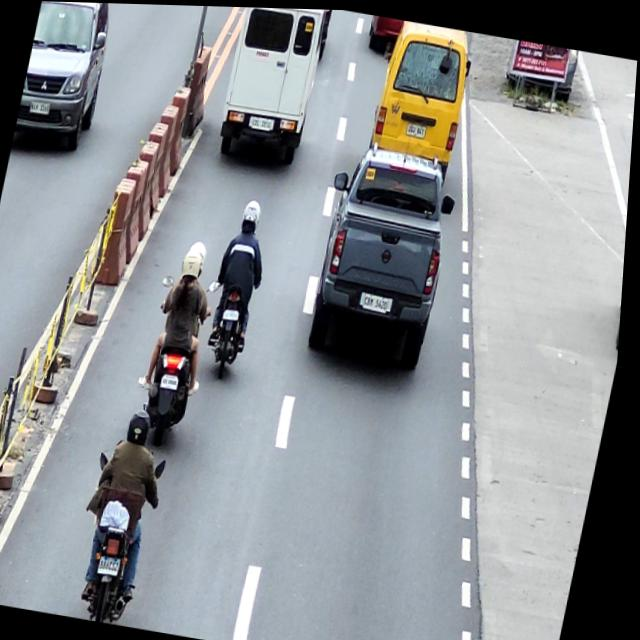Car: (303, 137, 466, 369), (361, 16, 480, 187), (215, 5, 329, 163), (14, 1, 121, 156)
License-Plate: (366, 290, 393, 312), (105, 555, 129, 576), (30, 99, 52, 116), (407, 121, 429, 136), (165, 373, 185, 389), (253, 115, 274, 130), (227, 307, 244, 321)
Motorcycle: (74, 450, 173, 627), (135, 270, 224, 449), (204, 247, 268, 381)
